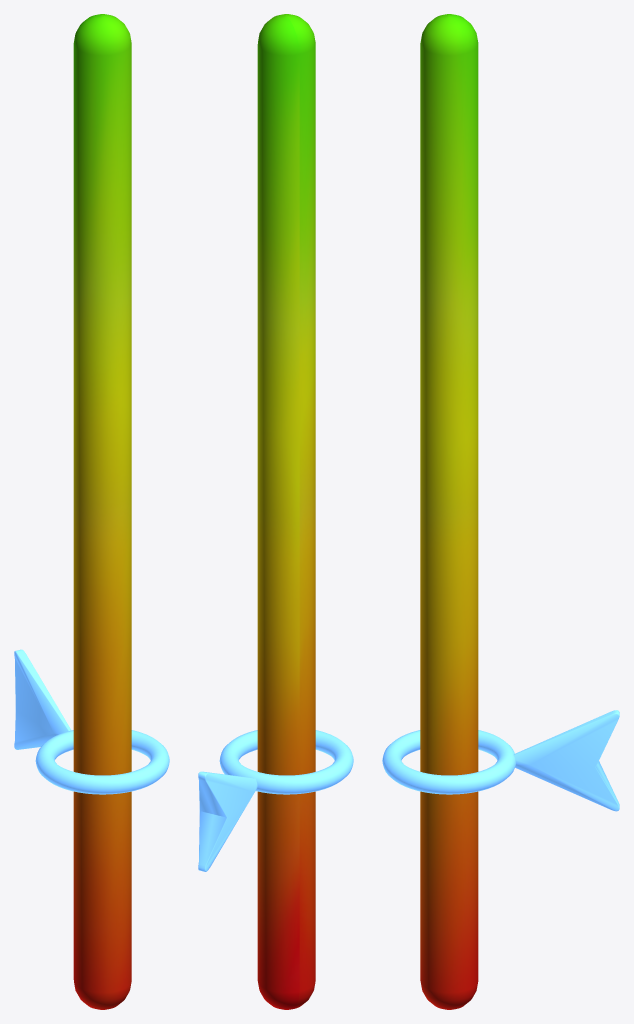
The model's file is Bar.fbx.
The picture shows the model from 3 angles, left to right: view 1: azimuth 30°, elevation 25°; view 2: azimuth 150°, elevation 25°; view 3: azimuth 270°, elevation 25°; orthographic projection.
Parts seen in each view (by area): view 1: Cylinder.009, Object_0; view 2: Cylinder.009, Object_0; view 3: Cylinder.009, Object_0.
Part boxes in pixels (left/top/right/bottom): Cylinder.009: left=73, top=14, right=131, bottom=1009; Object_0: left=14, top=649, right=169, bottom=794; Cylinder.009: left=257, top=14, right=315, bottom=1009; Object_0: left=198, top=730, right=353, bottom=871; Cylinder.009: left=420, top=14, right=478, bottom=1009; Object_0: left=382, top=710, right=619, bottom=811.
Bounding box in the file's own units: 28 × 228 × 49.52.
Materials: 2 (1 with a texture image).
